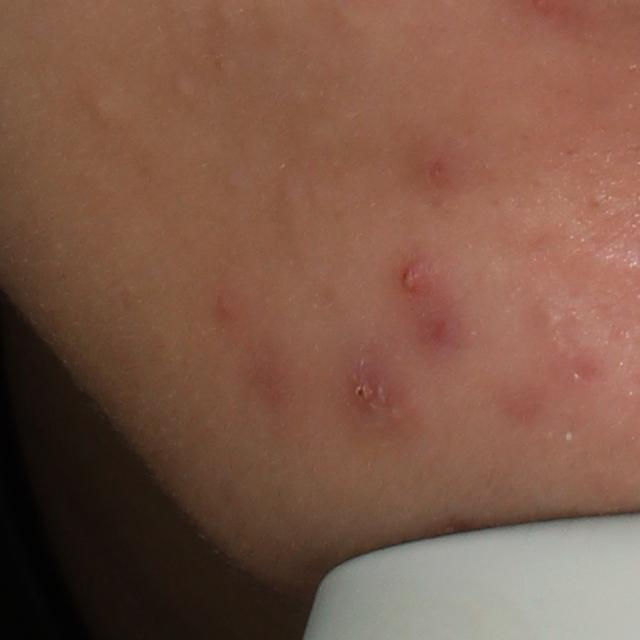comedo: (523, 291, 569, 340), (85, 83, 128, 124), (167, 66, 198, 101)
papule: (388, 249, 449, 309), (345, 363, 392, 414)
